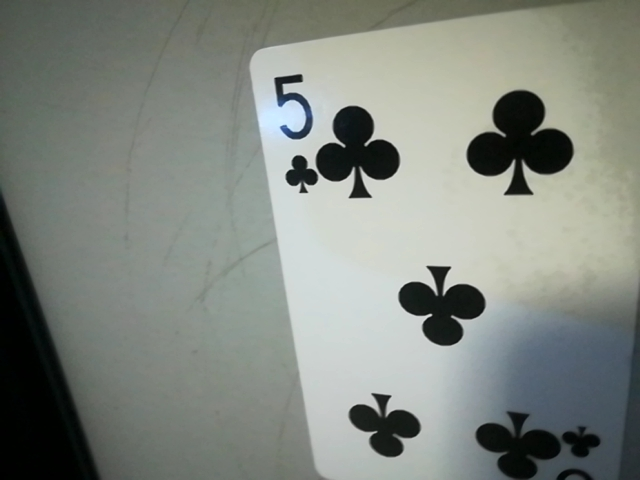mh 5: (262, 62, 323, 198)
